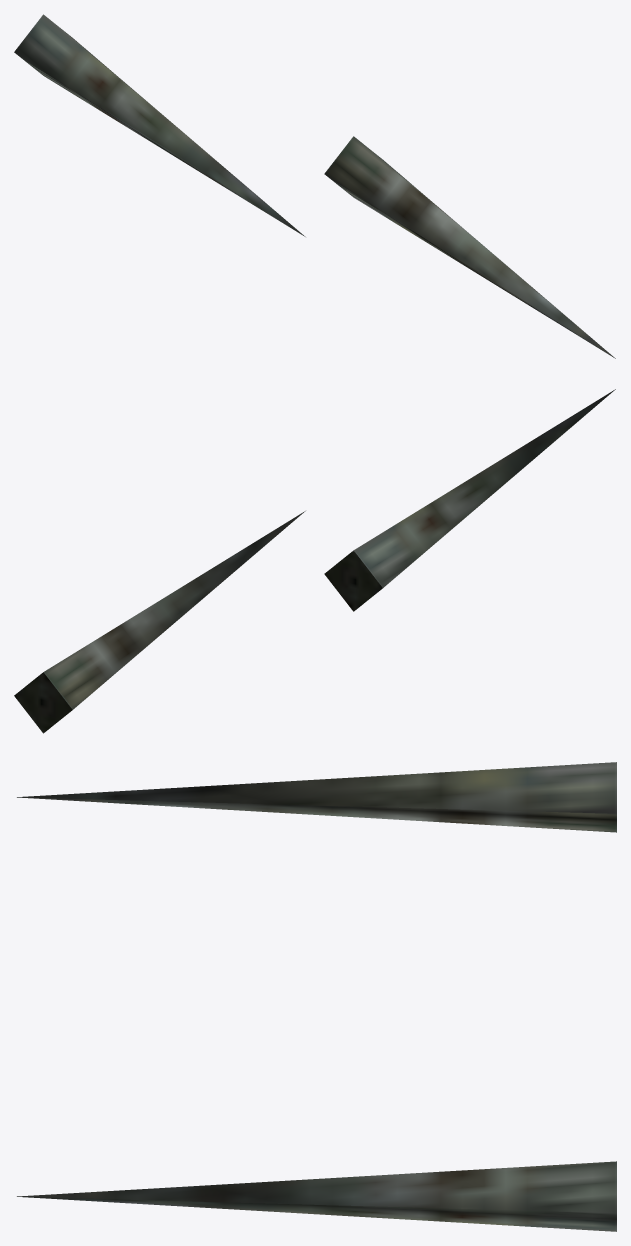
File: xwing_thruster_pos_s02_l3.fbx
3 views of the same model, one above another, from view 1: azimuth 30°, elevation 25°; view 2: azimuth 150°, elevation 25°; view 3: azimuth 270°, elevation 25° (orthographic). The views are drawn at different scales.
Visible parts, largest first — view 1: mesh_node; view 2: mesh_node; view 3: mesh_node.
Boxes of the visible parts, left/top/right/bottom form: mesh_node: left=14, top=14, right=615, bottom=358; mesh_node: left=14, top=389, right=615, bottom=733; mesh_node: left=17, top=762, right=616, bottom=1231.
Bounding box in the file's own units: 4.15 × 2.79 × 5.13.
Materials: 1 (1 with a texture image).
